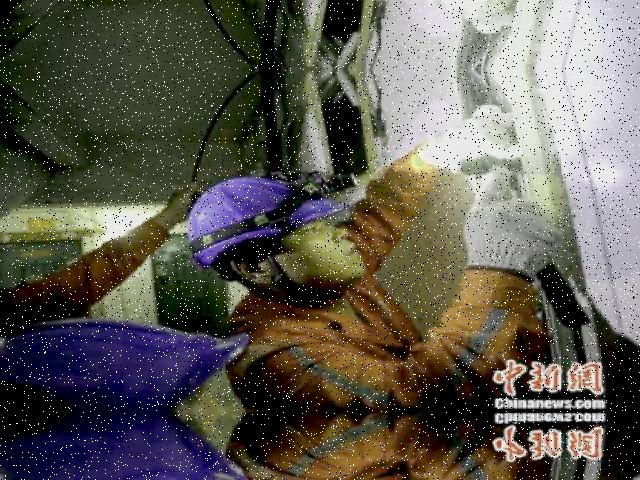Helmet: (176, 168, 351, 272)
